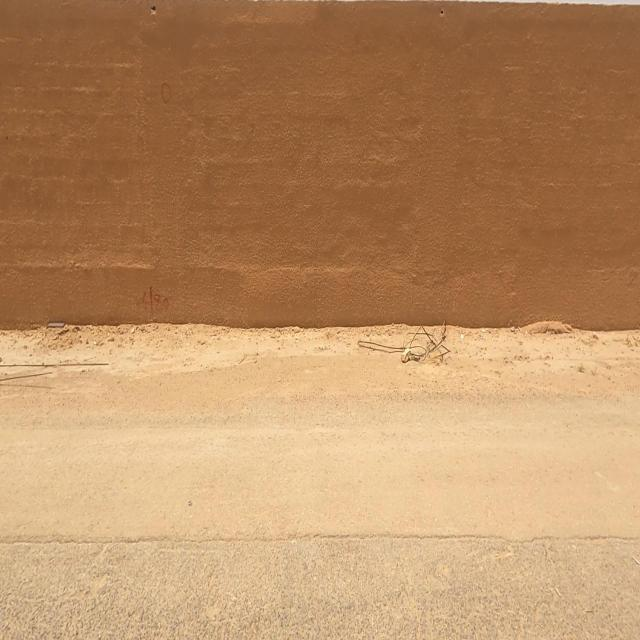debris: (323, 274, 503, 424)
